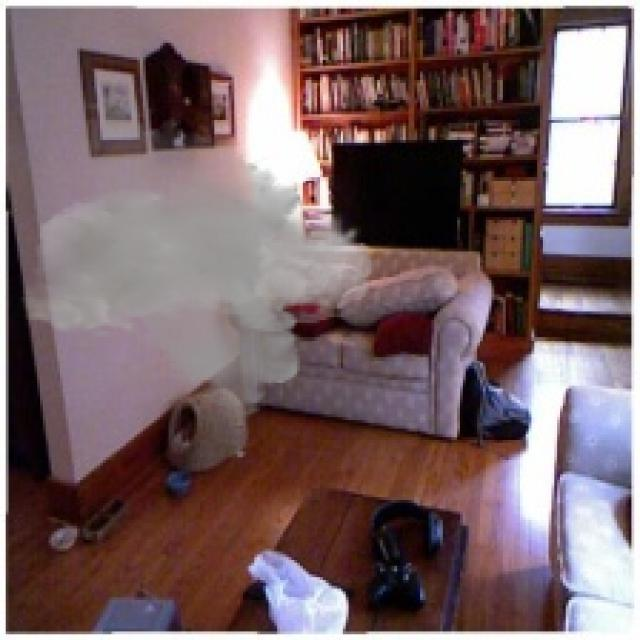smoke: (20, 77, 374, 429)
